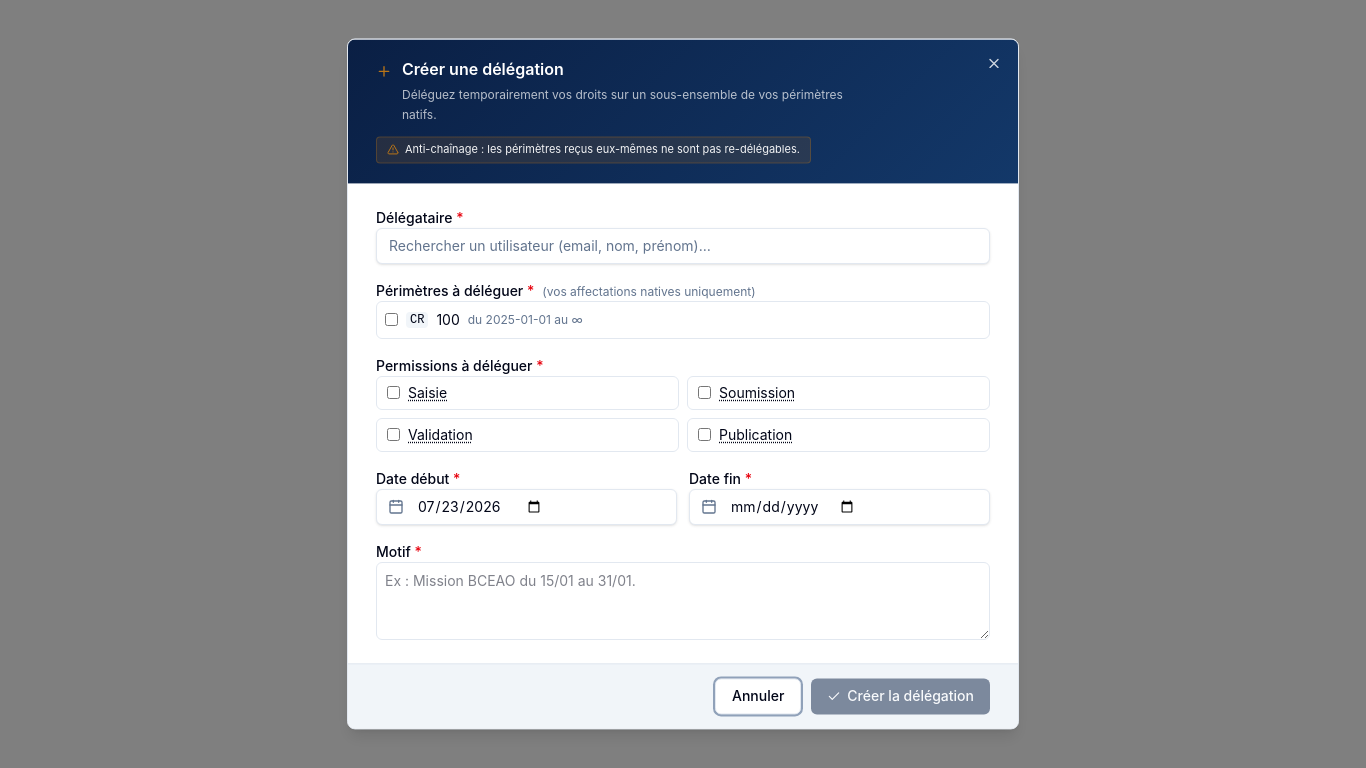
Test: CreerDelegationDialog › Z1 : tooltip contenu apparait au hover (smoke test PUBLICATION)
The image size is (1366, 768).
Hover over the text with test id "permission-label-PUBLICATION" at [756, 435], box x1=719 y1=425 x2=792 y2=445
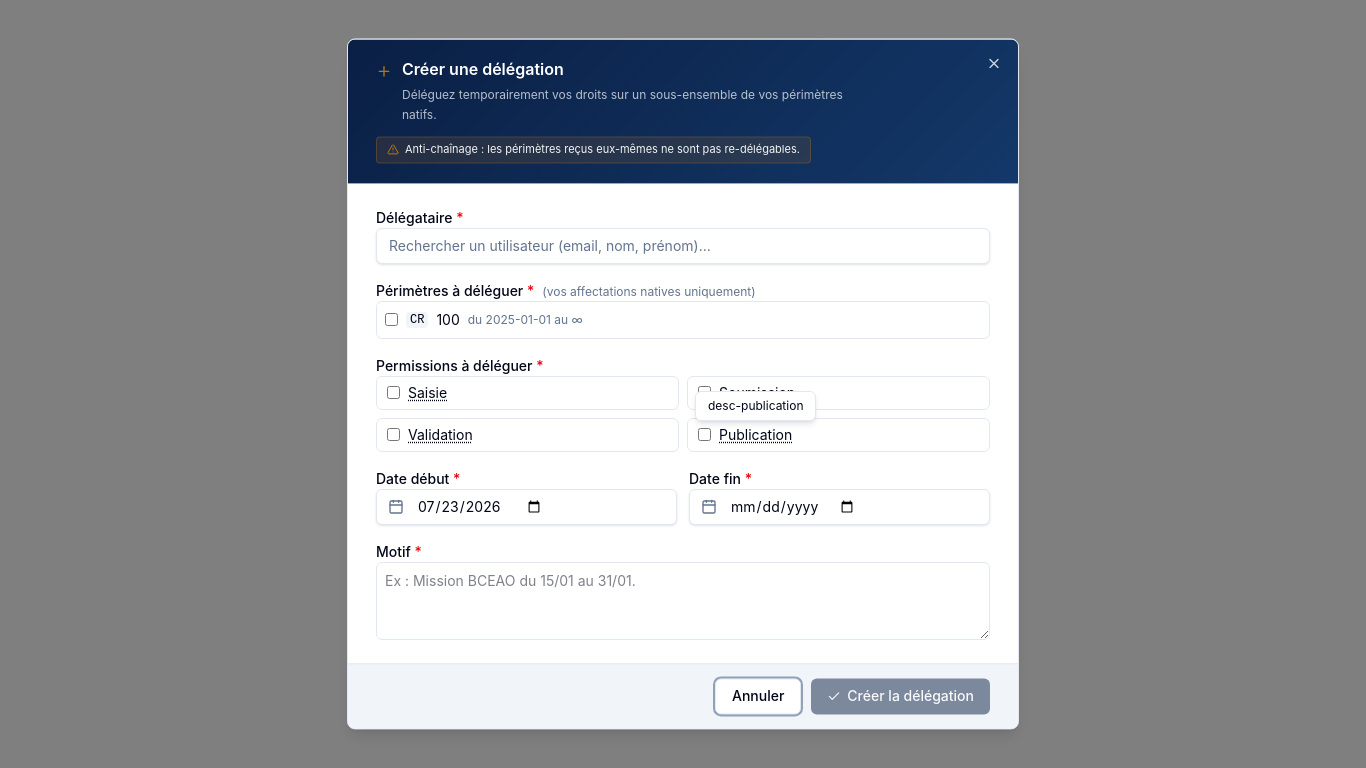
Now the tooltip "desc-publication" is shown, box x1=695 y1=391 x2=816 y2=421
